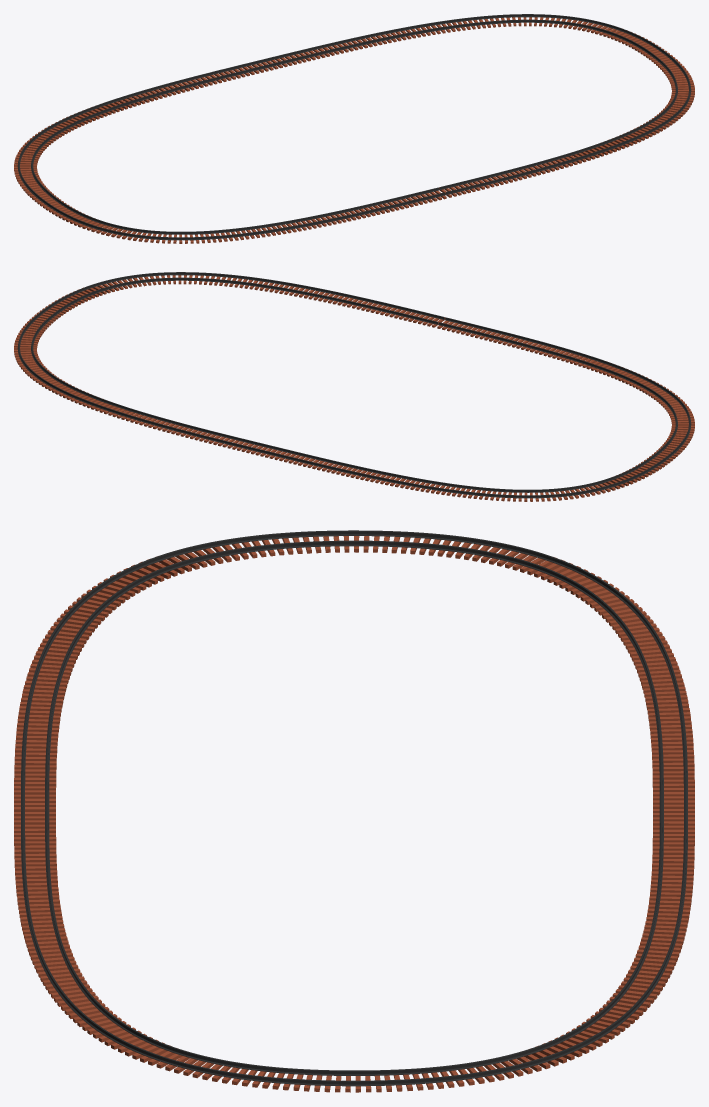
The model's file is Loop.fbx.
3 renders of one model, top to bottom at view 1: azimuth 30°, elevation 25°; view 2: azimuth 150°, elevation 25°; view 3: azimuth 270°, elevation 25°, orthographic. The views are drawn at different scales.
Parts seen in each view (by area): view 1: Loop; view 2: Loop; view 3: Loop.
Boxes of the visible parts, x1,y1,x2,y2 form: Loop: (14,14,694,243); Loop: (14,272,694,501); Loop: (14,530,694,1092).
Size of what is drawn, in the model's own units: 8263 by 53.38 by 4263.
1 material, 1 textured.
